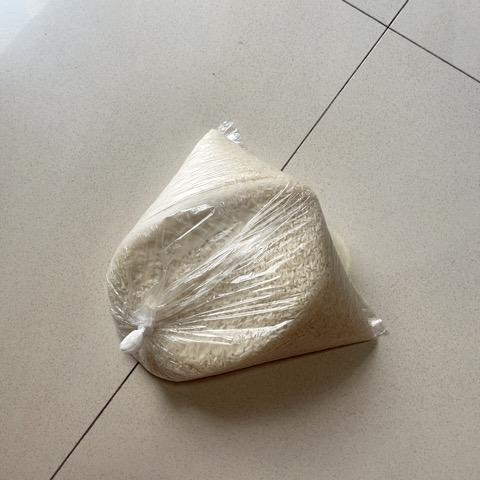rice: (103, 121, 388, 386)
